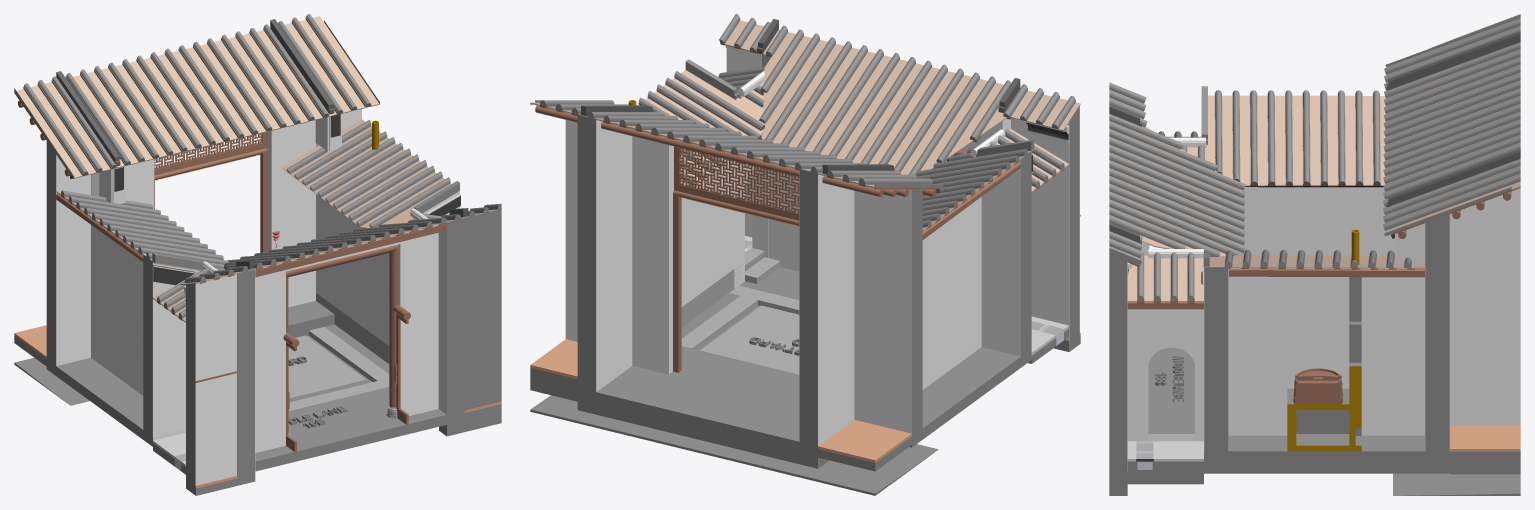
Rendered from Skyline Exposure.gltf.
The picture shows the model from 3 angles, left to right: view 1: azimuth 30°, elevation 25°; view 2: azimuth 150°, elevation 25°; view 3: azimuth 270°, elevation 25°; orthographic projection. The views are drawn at different scales.
Visible parts, largest first — view 1: 340mm_Concrete wall_w. 10mm White paint (×4), 120mm_Clay_Rafter (×32), 365mm_Concrete wall_w. 10mm White paint (×4), 20mm_Roof tile (×20), 315mm_Concrete wall_w. 10mm White paint, 200mm_Granite (×4), 290mm_Concrete wall_w. 10mm White paint, 3750 x 2830 x 0100mm, 2400 x 3500mm, 2470 x 4118mm, 400mm_Concrete slab (×2), 130mm (×2) (+7 smaller); view 2: 340mm_Concrete wall_w. 10mm White paint (×6), 400mm_Concrete slab (×2), 120mm_Clay_Rafter (×17), 365mm_Concrete wall_w. 10mm White paint (×2), 20mm_Roof tile (×13), 2470 x 4118mm, ROOF, 200mm_Granite (×3), 3750 x 2830 x 0100mm, 390mm_Concrete wall_w. 10mm White paint (×2), 50mm_clay tile_w. 150mm concrete, 130mm (×2) (+7 smaller); view 3: 120mm_Clay_Rafter (×45), 365mm_Concrete wall_w. 10mm White paint, 340mm_Concrete wall_w. 10mm White paint (×2), 20mm_Roof tile (×13), 390mm_Concrete wall_w. 10mm White paint (×2), 290mm_Concrete wall_w. 10mm White paint (×2), 400mm_Concrete slab, 1200 x 0925 x 3740mm, 4400mm_Ridge_Middle & Ancestral Hall (×2), 50mm_clay tile_w. 400mm concrete, 200mm_Granite, 50mm_tile_w. 400mm concrete (+5 smaller).
Boxes of the visible parts, <box> form: 340mm_Concrete wall_w. 10mm White paint (×4): <box>46,140,236,487</box>; 120mm_Clay_Rafter (×32): <box>23,14,450,227</box>; 365mm_Concrete wall_w. 10mm White paint (×4): <box>125,120,464,478</box>; 20mm_Roof tile (×20): <box>16,16,379,178</box>; 315mm_Concrete wall_w. 10mm White paint: <box>255,225,438,452</box>; 200mm_Granite (×4): <box>46,324,446,471</box>; 290mm_Concrete wall_w. 10mm White paint: <box>464,209,501,410</box>; 3750 x 2830 x 0100mm: <box>288,327,389,410</box>; 2400 x 3500mm: <box>283,244,410,451</box>; 2470 x 4118mm: <box>154,131,267,252</box>; 400mm_Concrete slab (×2): <box>288,293,389,363</box>; 130mm (×2): <box>56,193,446,277</box>; 340mm_Concrete wall_w. 10mm White paint (×6): <box>577,105,1079,446</box>; 400mm_Concrete slab (×2): <box>577,264,829,468</box>; 120mm_Clay_Rafter (×17): <box>656,29,1019,176</box>; 365mm_Concrete wall_w. 10mm White paint (×2): <box>632,136,728,374</box>; 20mm_Roof tile (×13): <box>762,36,1003,174</box>; 2470 x 4118mm: <box>673,146,799,372</box>; ROOF: <box>530,395,938,495</box>; 200mm_Granite (×3): <box>681,267,1031,447</box>; 3750 x 2830 x 0100mm: <box>681,285,799,374</box>; 390mm_Concrete wall_w. 10mm White paint (×2): <box>565,120,740,341</box>; 50mm_clay tile_w. 150mm concrete: <box>818,420,911,471</box>; 130mm (×2): <box>535,105,1020,239</box>; 120mm_Clay_Rafter (×45): <box>1109,14,1520,256</box>; 365mm_Concrete wall_w. 10mm White paint: <box>1228,267,1424,435</box>; 340mm_Concrete wall_w. 10mm White paint (×2): <box>1243,187,1520,425</box>; 20mm_Roof tile (×13): <box>1144,95,1373,302</box>; 390mm_Concrete wall_w. 10mm White paint (×2): <box>1204,212,1449,451</box>; 290mm_Concrete wall_w. 10mm White paint (×2): <box>1109,254,1203,474</box>; 400mm_Concrete slab: <box>1204,435,1449,473</box>; 1200 x 0925 x 3740mm: <box>1287,229,1361,451</box>; 4400mm_Ridge_Middle & Ancestral Hall (×2): <box>1109,31,1520,243</box>; 50mm_clay tile_w. 400mm concrete: <box>1450,426,1520,474</box>; 200mm_Granite: <box>1148,347,1194,433</box>; 50mm_tile_w. 400mm concrete: <box>1127,441,1203,484</box>.
Size of what is drawn, in the model's own units: 6.43 by 5.67 by 6.62.
